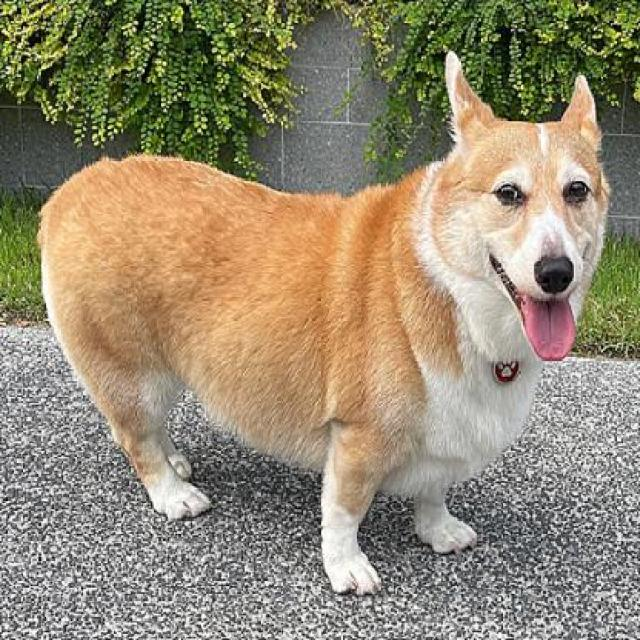Dog: (36, 48, 618, 595)
